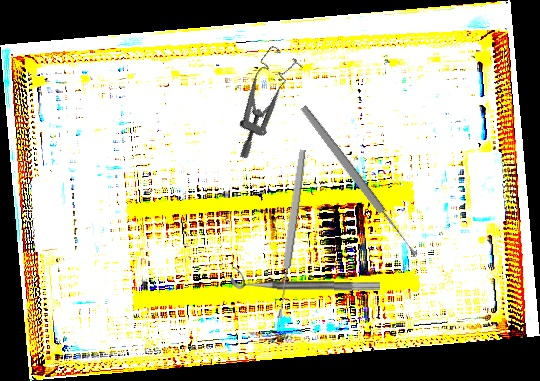Fixation Ring: (230, 266, 381, 292)
Speculum: (208, 42, 312, 161)
Surgical Spoon: (298, 103, 420, 260), (274, 149, 308, 319)
